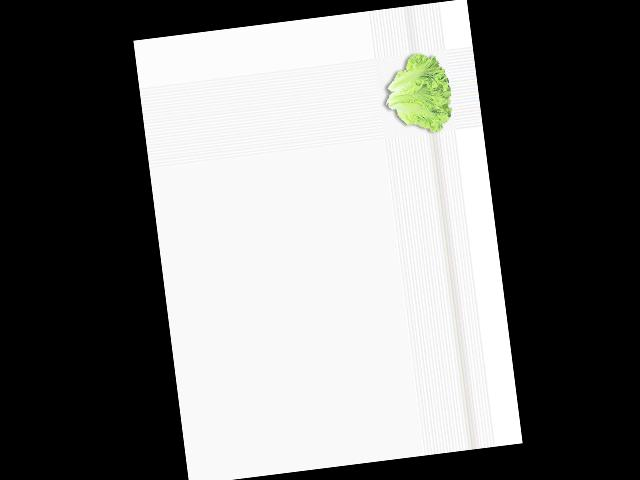lettuce: (378, 48, 454, 136)
